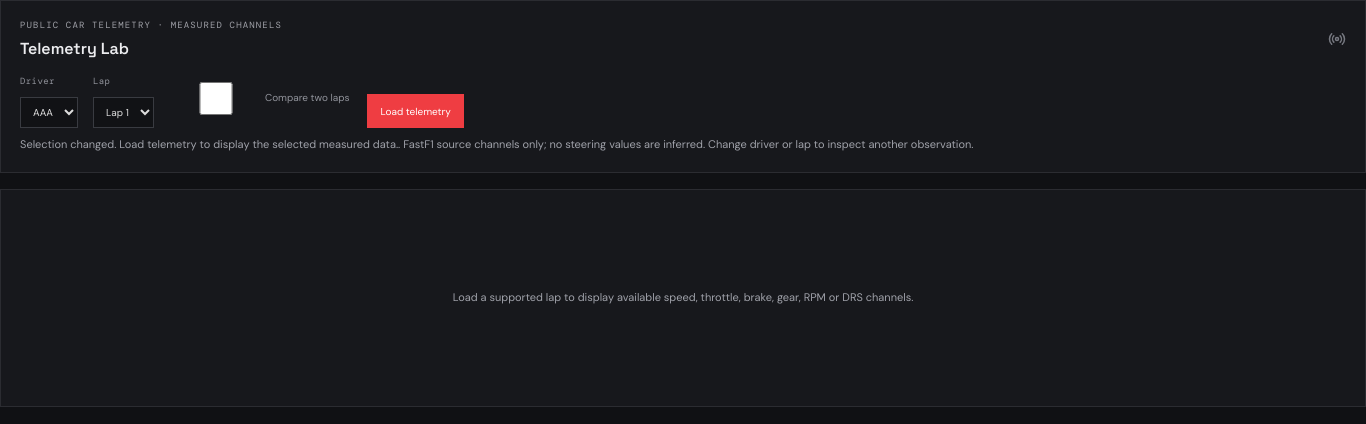
Scenario: TelemetryLab › does not allow a same-lap self comparison
The width and height of the screenshot is (1366, 424).
Step 1. Click the checkbox labelled "Compare two laps" → (216, 98), box [176, 82, 256, 115]
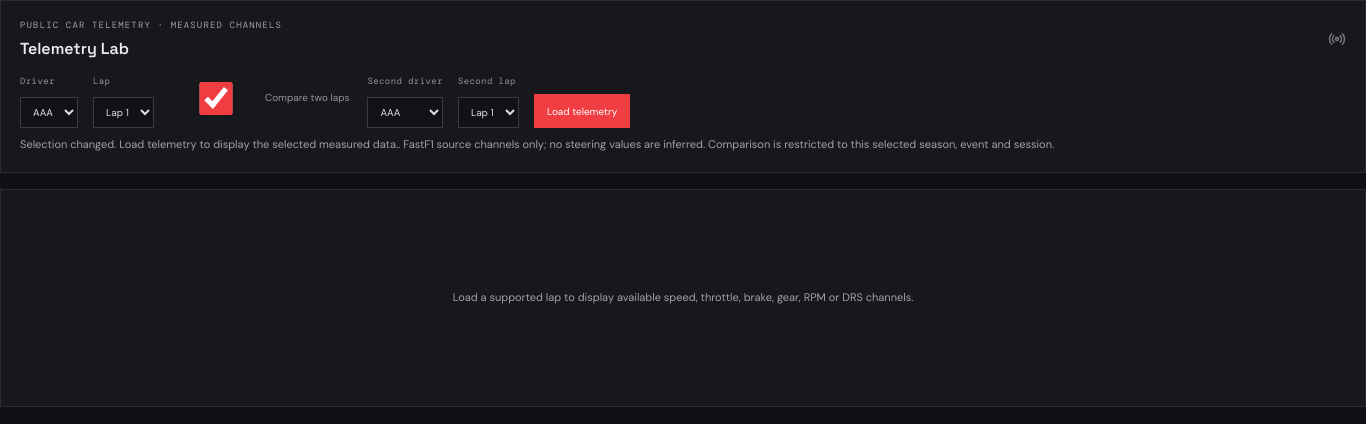
Step 2. Click the button "Load telemetry" → (582, 111), box [534, 94, 630, 128]
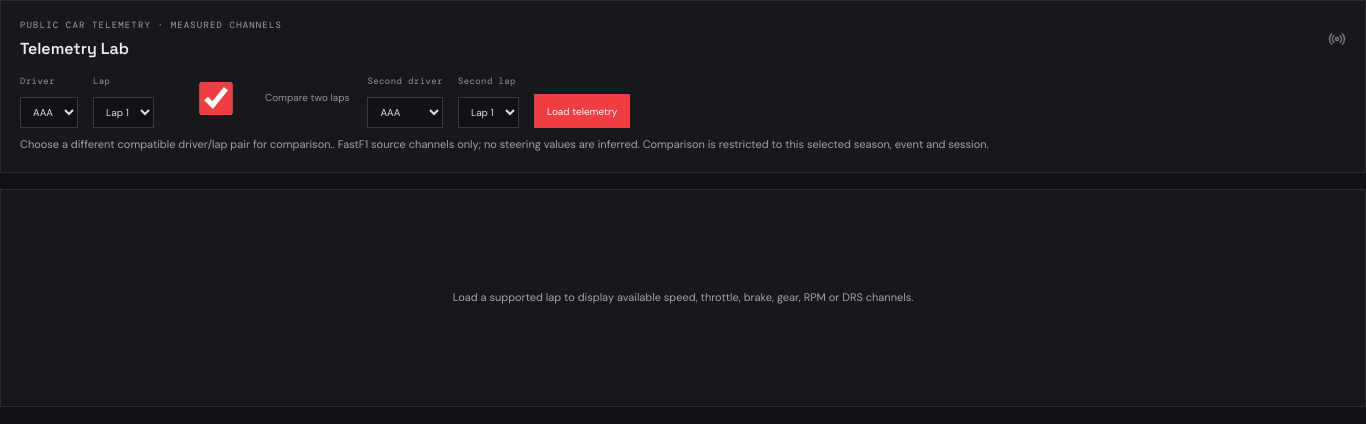
Now the text "Choose a different compatible driver/lap pair" is shown, box [20, 137, 333, 151]
